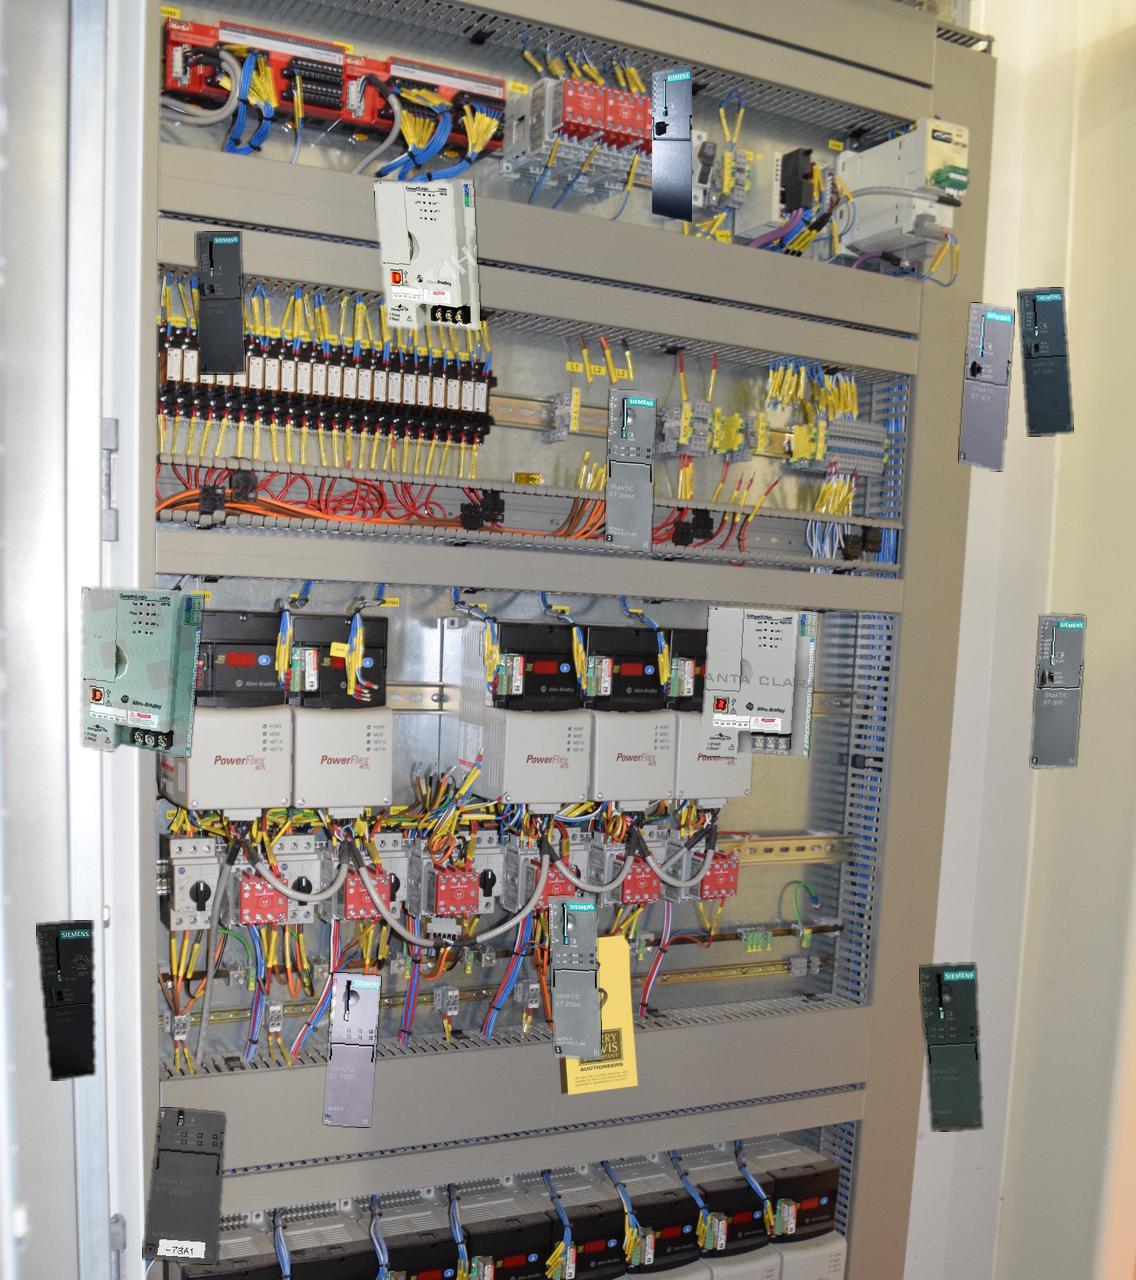AllenBradley: (81, 587, 203, 757), (701, 607, 816, 757), (374, 180, 480, 329)
Siemens: (959, 303, 1013, 471), (37, 921, 94, 1079), (1031, 614, 1084, 767), (1018, 288, 1072, 435), (196, 231, 245, 374), (652, 65, 691, 220)
